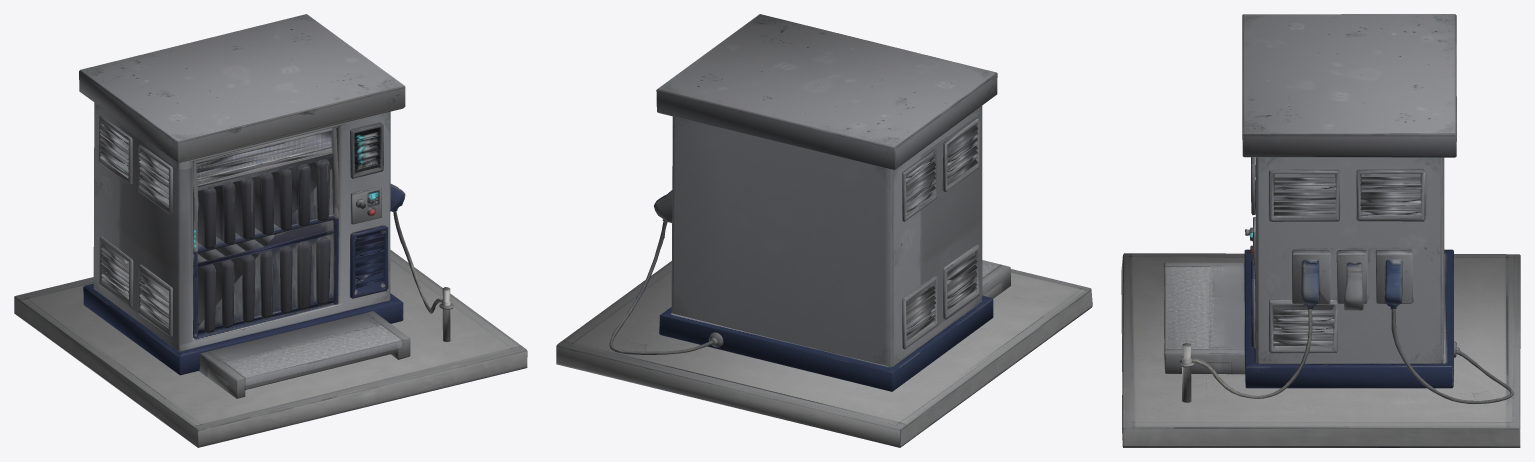
Rendered from batarya.fbx.
The picture shows the model from 3 angles, left to right: view 1: azimuth 30°, elevation 25°; view 2: azimuth 150°, elevation 25°; view 3: azimuth 270°, elevation 25°; orthographic projection. The views are drawn at different scales.
Visible parts, largest first — view 1: Mesh_0; view 2: Mesh_0; view 3: Mesh_0.
Part boxes in pixels (x1,y1,x2,y2): Mesh_0: (14, 14, 527, 447); Mesh_0: (556, 14, 1092, 447); Mesh_0: (1121, 14, 1520, 447).
Size of the model in its own units: 100 by 74.92 by 97.04.
Materials: 1 (1 with a texture image).
